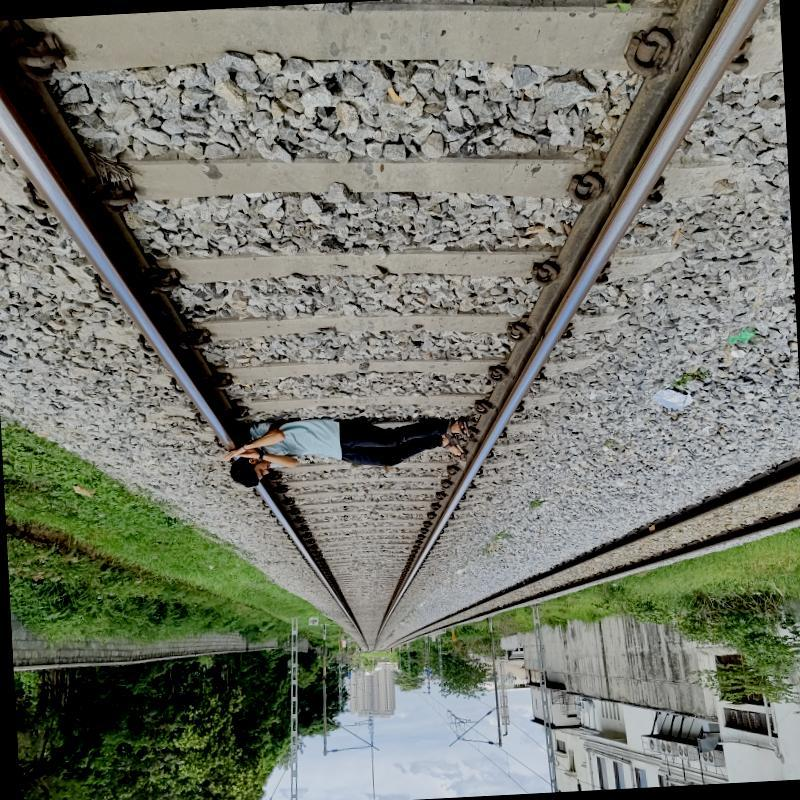sleeping: (217, 399, 490, 493)
